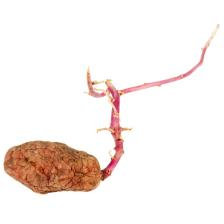Sprouted potato: (8, 31, 214, 222)
